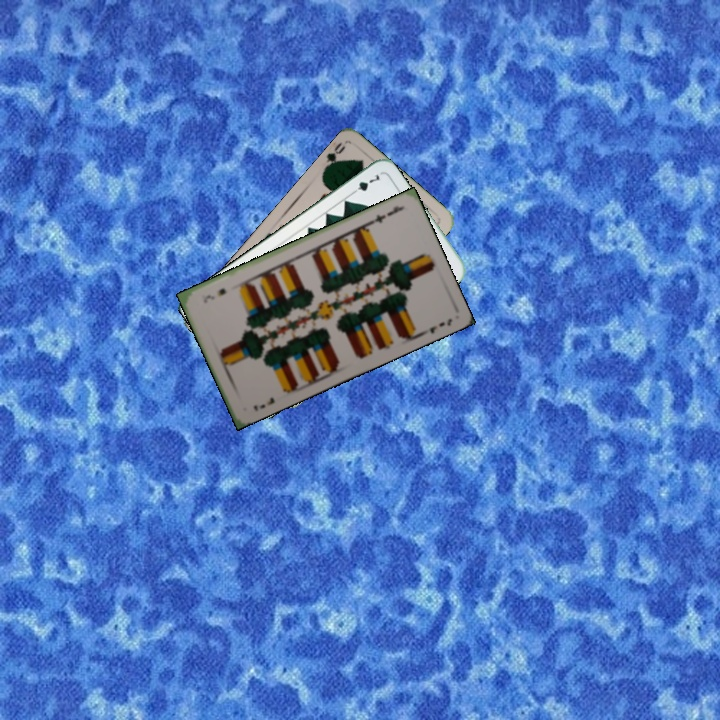E7: (367, 202, 405, 227), (249, 393, 277, 414)
G7: (346, 170, 382, 198)
GO: (319, 138, 348, 175)
